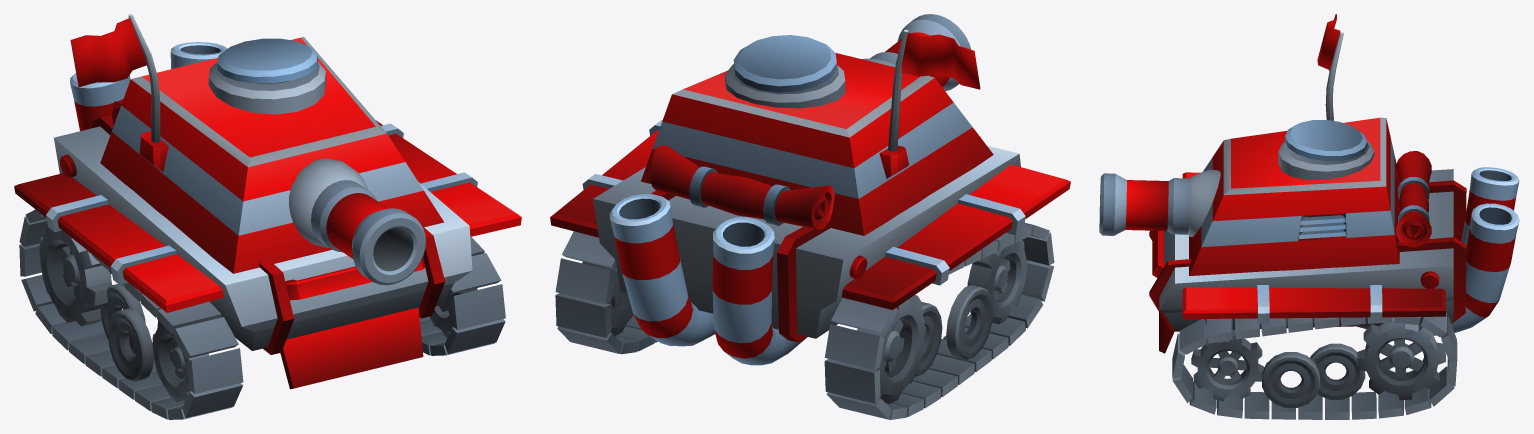
The model's file is Tank.fbx.
3 views of the same model, side by side, from view 1: azimuth 30°, elevation 25°; view 2: azimuth 150°, elevation 25°; view 3: azimuth 270°, elevation 25° (orthographic). The views are drawn at different scales.
Parts seen in each view (by area): view 1: TankBase, TankWingRight, TankKnob, TankPlastineForward, gear4_right, TankWingLeft, TankTowerRoof, TankFlag, TankTubes, gear2_right, gear1_right, TankTrackLeft_2 (+17 smaller); view 2: TankBase, TankTubes, TankWingRight, TankFabricate, TankTowerRoof, gear4_right, TankWingLeft, TankFlag, gear1_right, gear2_right, TankTrackLeft_15, TankTrackRight_14 (+17 smaller); view 3: TankBase, TankWingLeft, TankTubes, gear4_left, TankKnob, gear1_left, TankFabricate, TankTowerRoof, gear2_left, gear3_left, TankTrackLeft_1, TankFlag (+15 smaller).
Boxes of the visible parts, box(x1,y1,x2,y2) form: TankBase: box(54, 14, 472, 354); TankWingRight: box(14, 173, 223, 312); TankKnob: box(311, 180, 425, 285); TankPlastineForward: box(280, 307, 423, 389); gear4_right: box(39, 223, 111, 326); TankWingLeft: box(376, 120, 521, 236); TankTowerRoof: box(217, 38, 317, 83); TankFlag: box(70, 18, 147, 86); TankTubes: box(70, 42, 227, 130); gear2_right: box(108, 308, 153, 381); gear1_right: box(152, 320, 208, 401); TankTrackLeft_2: box(449, 284, 505, 329); TankBase: box(593, 29, 1020, 342); TankTubes: box(609, 194, 807, 365); TankWingRight: box(841, 164, 1070, 309); TankFabricate: box(650, 145, 834, 229); TankTowerRoof: box(733, 35, 837, 92); gear4_right: box(857, 295, 926, 403); TankWingLeft: box(550, 120, 662, 237); TankFlag: box(901, 33, 980, 89); gear1_right: box(967, 240, 1027, 324); gear2_right: box(946, 284, 993, 359); TankTrackLeft_15: box(555, 258, 615, 304); TankTrackRight_14: box(824, 324, 884, 369); TankBase: box(1149, 32, 1466, 331); TankWingLeft: box(1182, 284, 1445, 324); TankTubes: box(1356, 167, 1519, 335); gear4_left: box(1357, 317, 1445, 400); TankKnob: box(1099, 173, 1190, 235); gear1_left: box(1191, 329, 1264, 401); TankFabricate: box(1396, 151, 1431, 247); TankTowerRoof: box(1285, 120, 1367, 161); gear2_left: box(1262, 352, 1320, 407); gear3_left: box(1310, 343, 1365, 399); TankTrackLeft_1: box(1179, 319, 1206, 354); TankFlag: box(1317, 14, 1340, 70).
Bounding box in the file's own units: 3.27 × 2.99 × 4.07.
